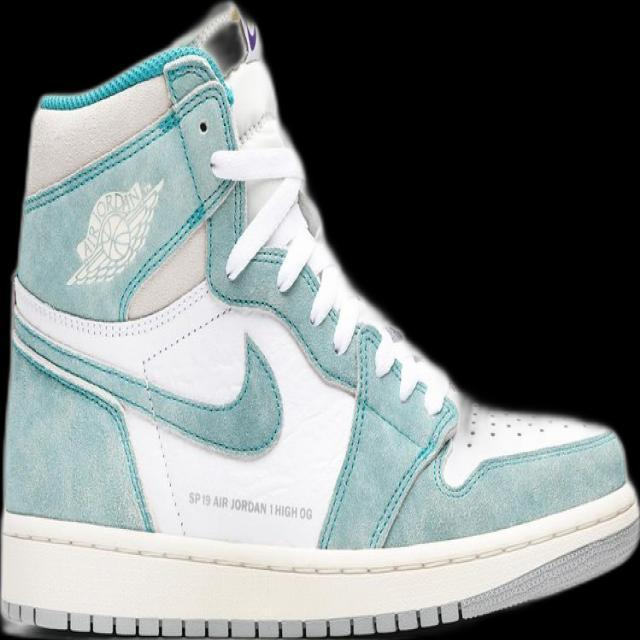J1_InsoleChar: (1, 1, 638, 639)
J1_ShoeLogo: (64, 175, 166, 287), (186, 490, 314, 521)
J1_StitchPattern: (1, 492, 637, 636), (210, 114, 450, 416), (9, 321, 155, 531), (1, 599, 465, 638), (134, 317, 190, 536), (461, 401, 601, 450), (137, 304, 232, 370)
